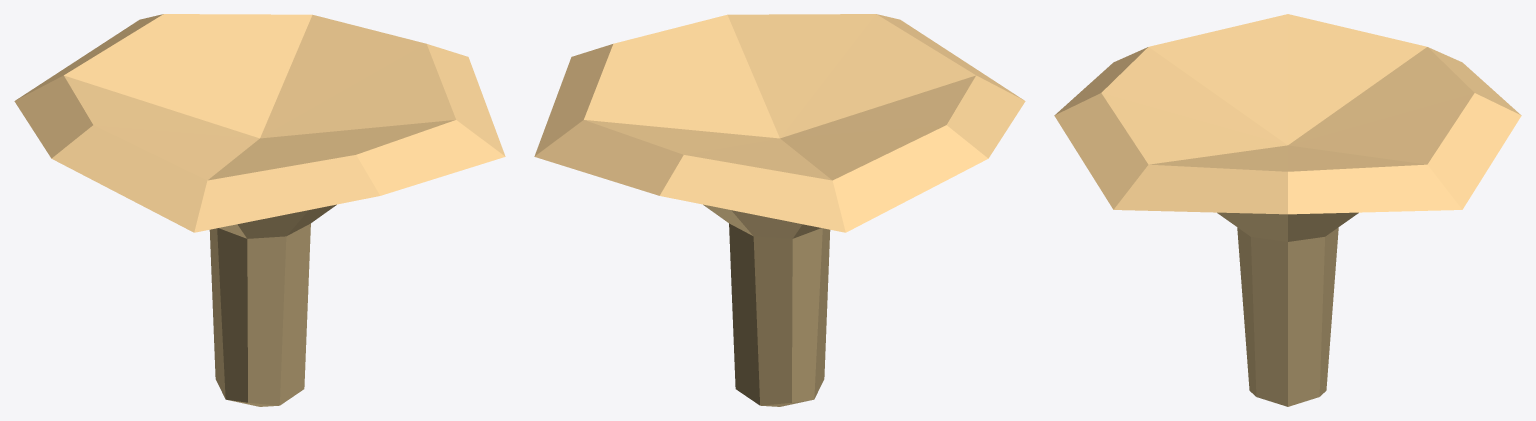
Rendered from Keltavahvero.fbx.
The picture shows the model from 3 angles, left to right: view 1: azimuth 30°, elevation 25°; view 2: azimuth 150°, elevation 25°; view 3: azimuth 270°, elevation 25°; orthographic projection. The views are drawn at different scales.
Visible parts, largest first — view 1: Keltavahvero; view 2: Keltavahvero; view 3: Keltavahvero.
Part boxes in pixels (x1=…): Keltavahvero: x1=14, y1=14, x2=505, y2=406; Keltavahvero: x1=534, y1=14, x2=1025, y2=406; Keltavahvero: x1=1054, y1=14, x2=1521, y2=406.
Bounding box in the file's own units: 26.73 × 19.76 × 26.73.
